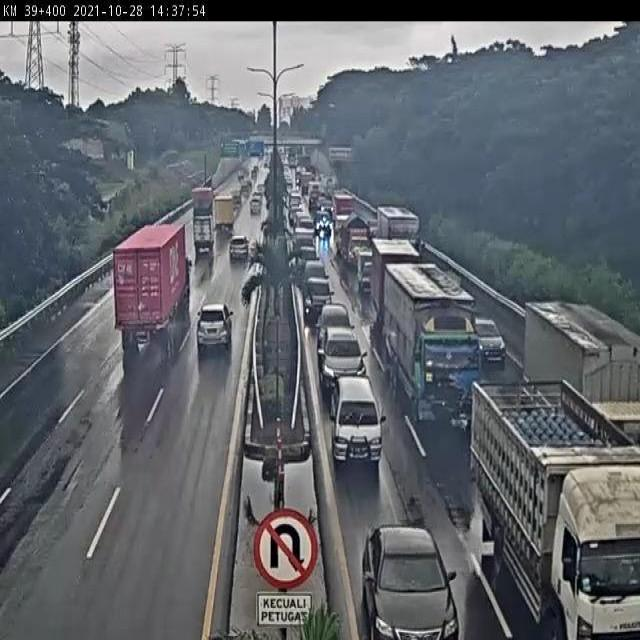big truck: (469, 355, 640, 636), (529, 297, 640, 480), (380, 265, 479, 440), (105, 211, 199, 388)
car: (359, 508, 468, 640), (330, 375, 391, 468), (319, 324, 374, 381), (473, 306, 508, 370), (198, 296, 234, 357), (304, 275, 350, 312), (322, 300, 359, 327), (228, 224, 251, 265)
small truck: (213, 190, 236, 238), (193, 211, 214, 257), (194, 183, 214, 221)
